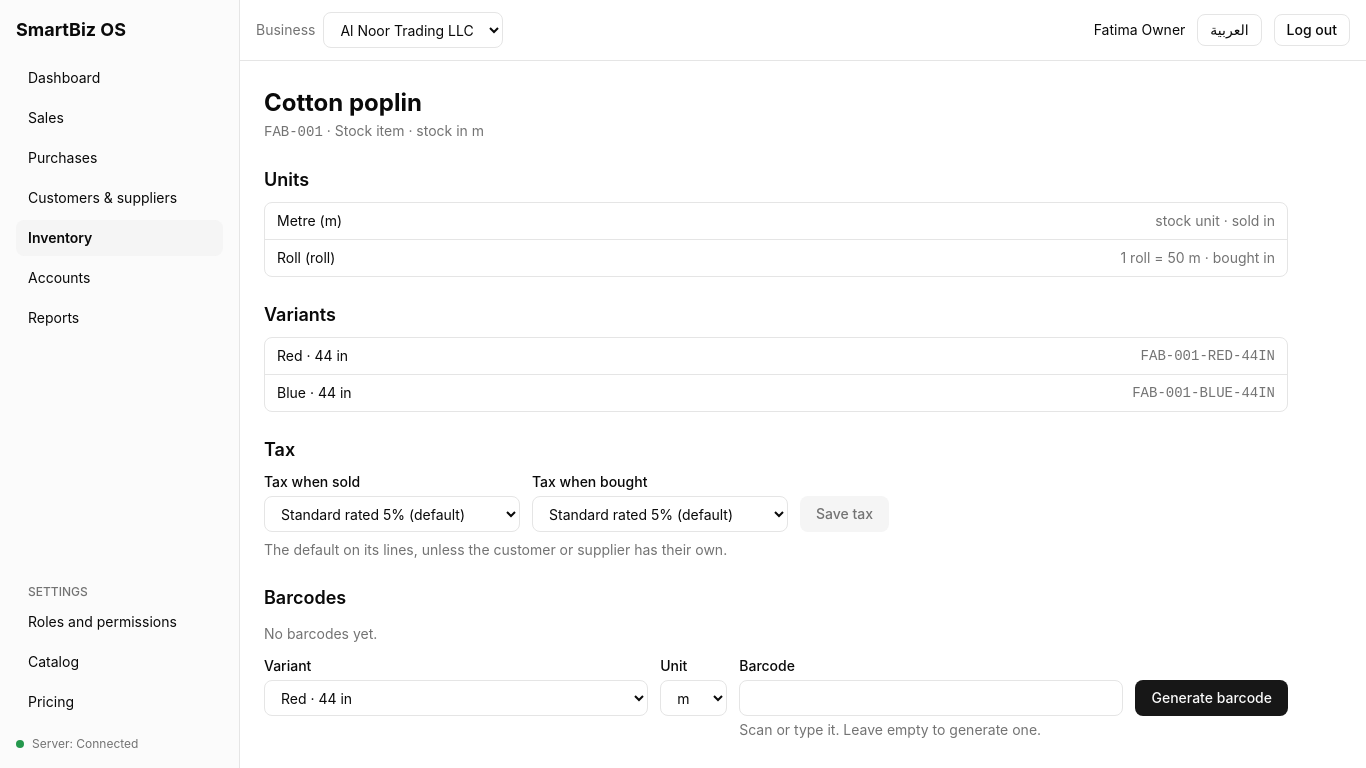
Test: A product's VAT codes › saves the item's own codes; blocked VAT is not offered on stock
The image size is (1366, 768).
Expected: the button "Save tax" is disabled, [800,496,889,532]
Select "Zero rated" in the dropdown labelled "Tax when sold" at [392, 514], box [264,496,520,532]
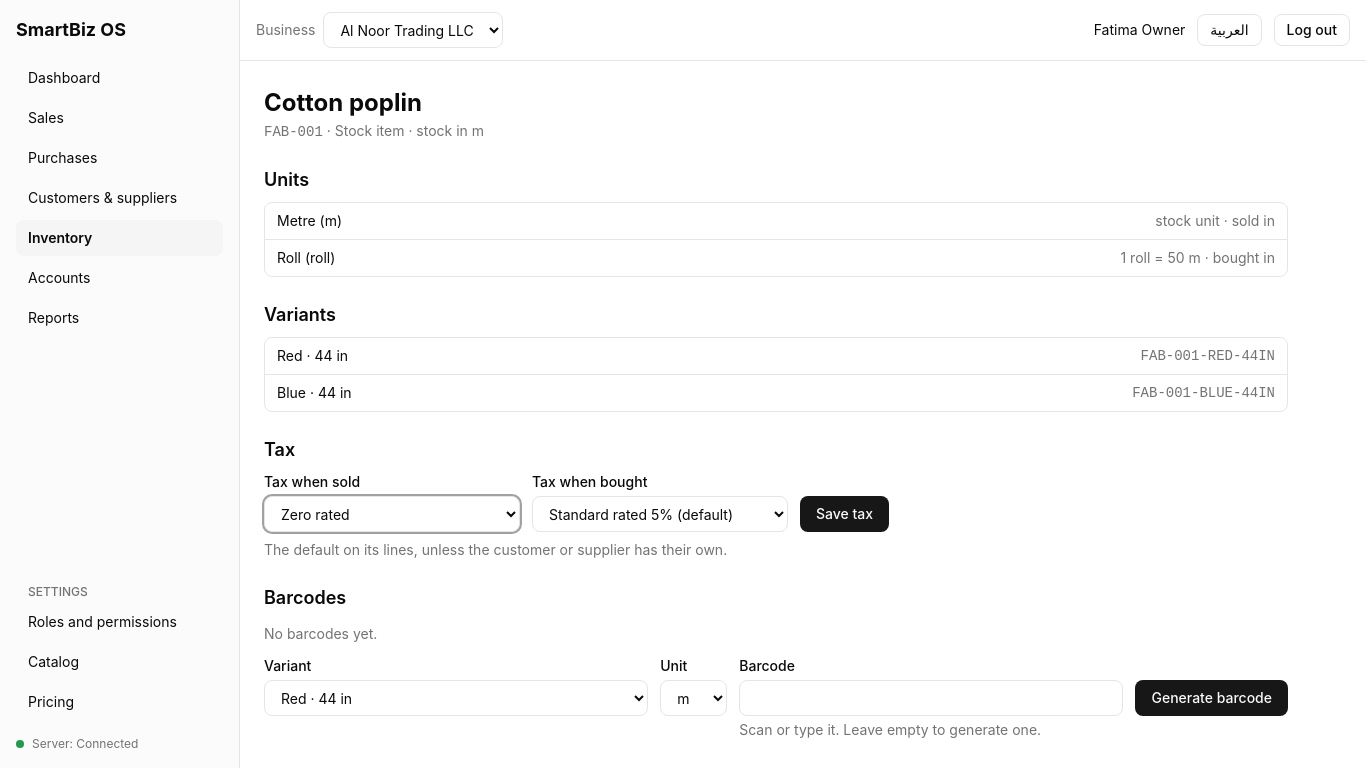
Click the button "Save tax" at [845, 514], box [800,496,889,532]
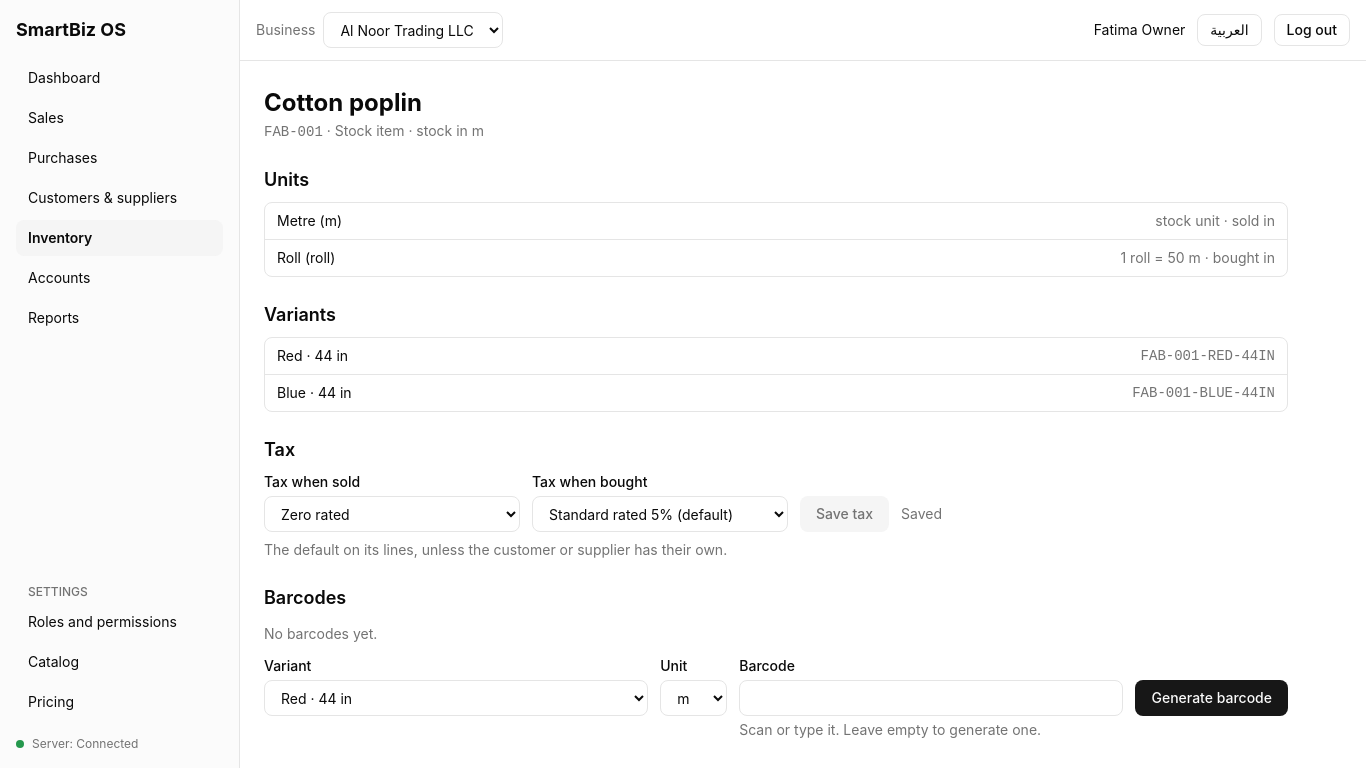
Expected: the text "Saved" is shown, [901,504,942,532]
